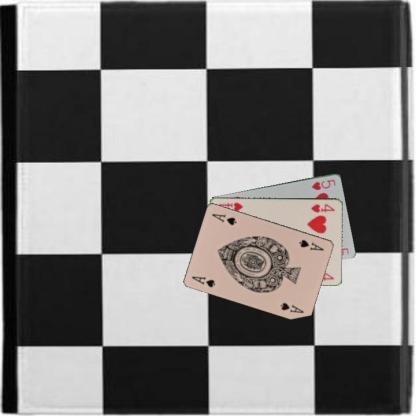4h: (309, 201, 336, 213)
5h: (309, 177, 337, 191)
As: (296, 237, 326, 252), (190, 274, 216, 288)
